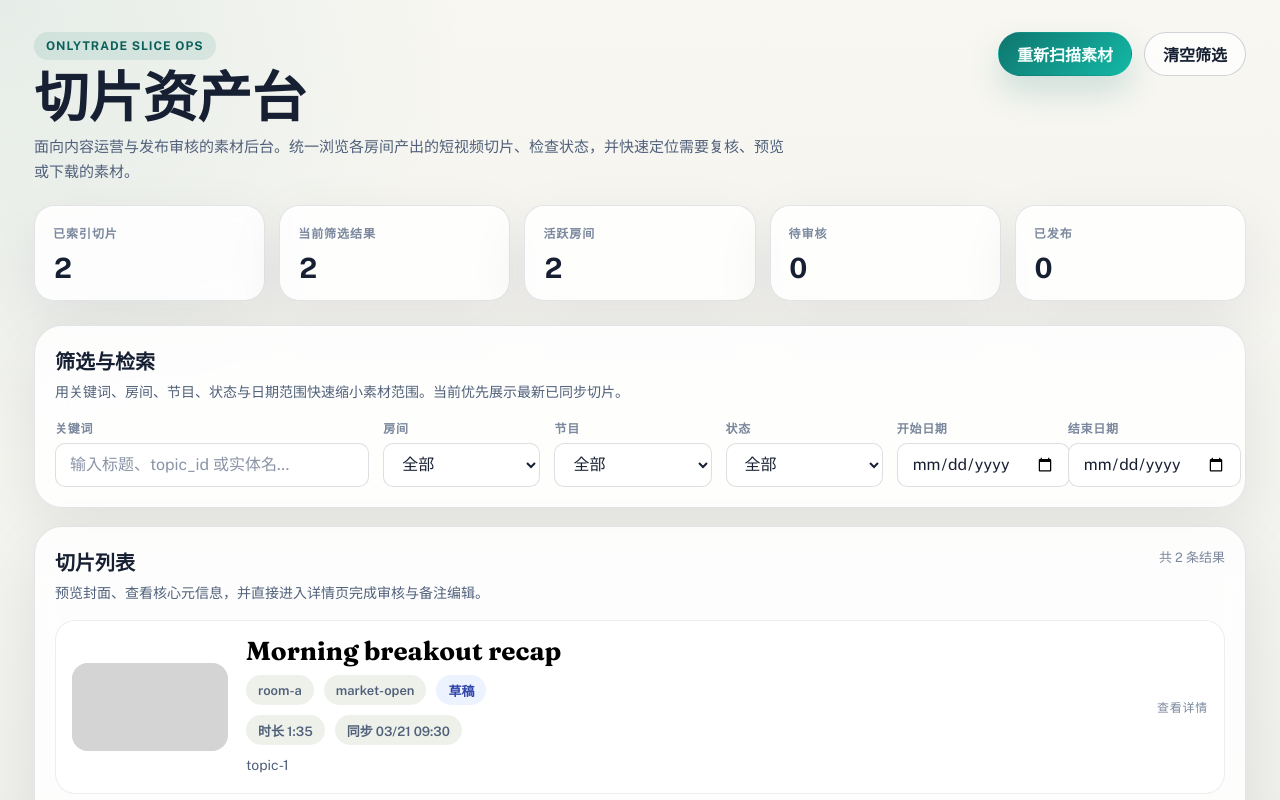
SegmentListPage › opens selection state when a row is clicked
This screenshot has width=1280, height=800.
Click the button with aria-label "查看 Morning breakout recap".
click(640, 707)  # box top-left (55, 620), bottom-right (1225, 794)
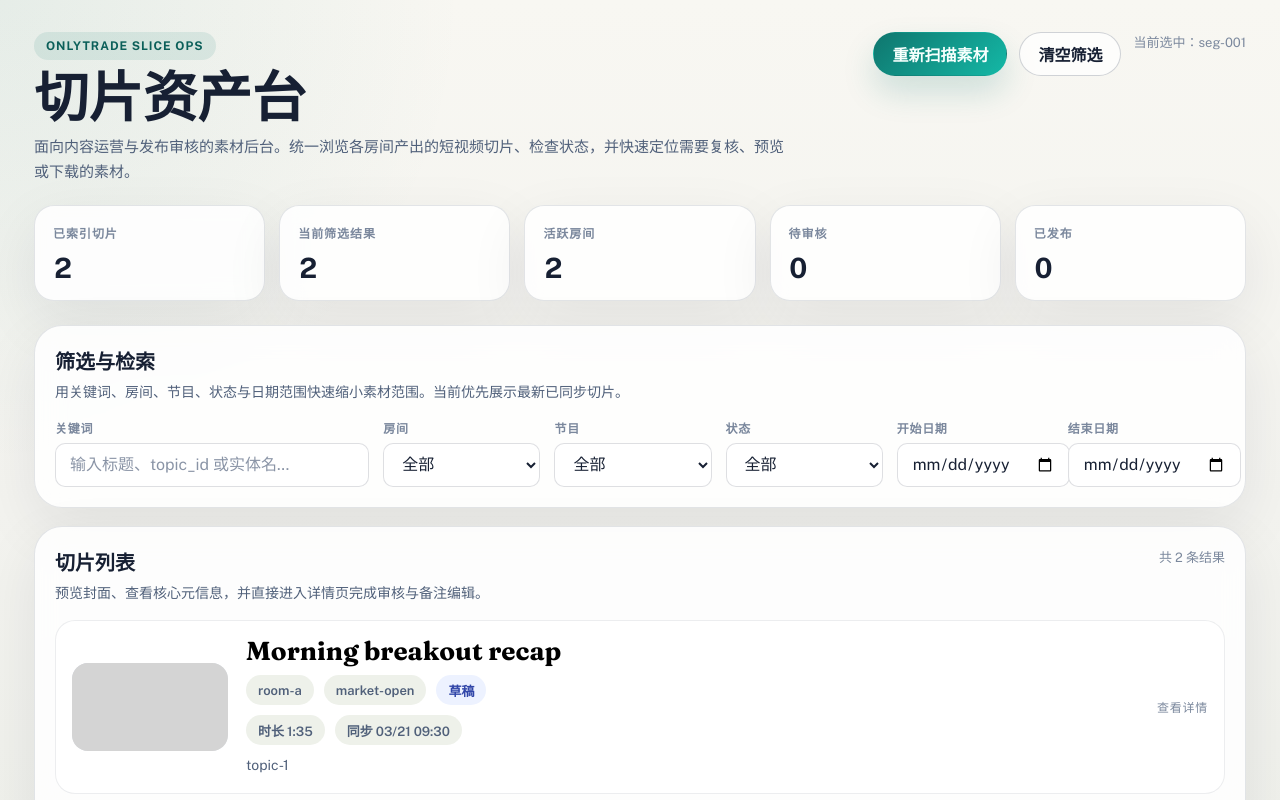
Check: the text "当前选中：seg-001" is shown, box top-left (1134, 35), bottom-right (1246, 50)
